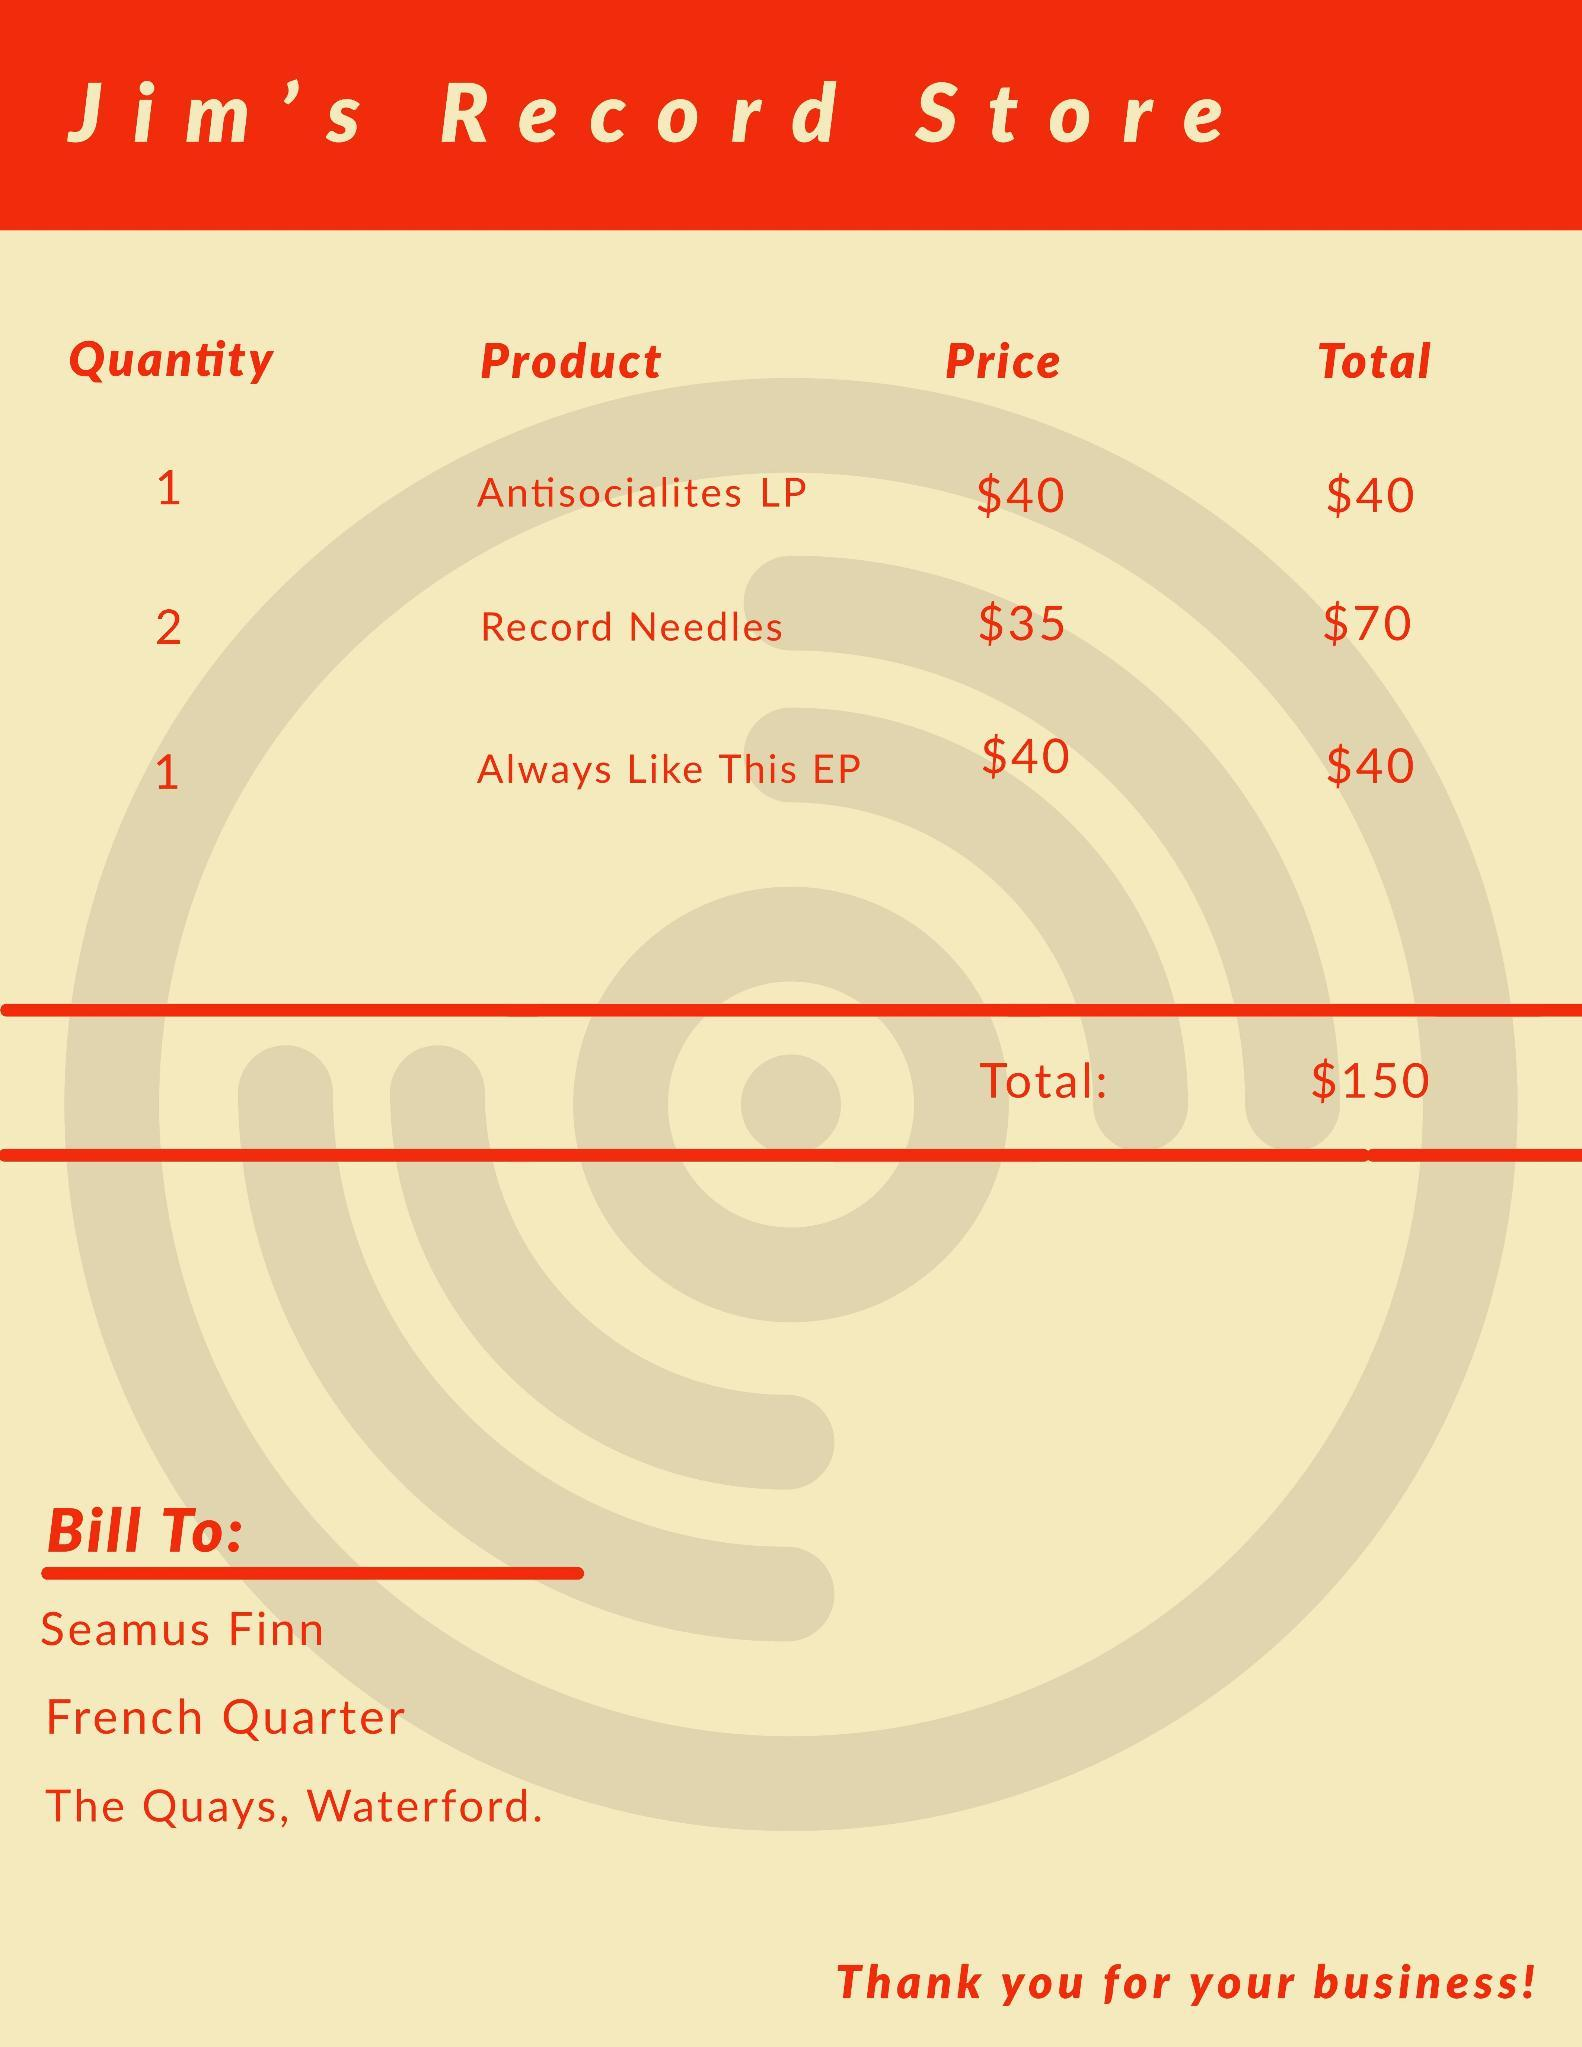ROI: (34, 311, 1549, 986), (34, 1480, 616, 1850), (42, 38, 1257, 198), (817, 1934, 1540, 2020), (958, 1036, 1477, 1128)
